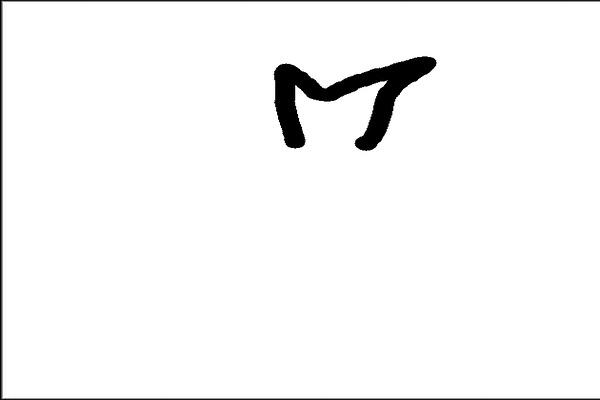M: (268, 54, 440, 155)
